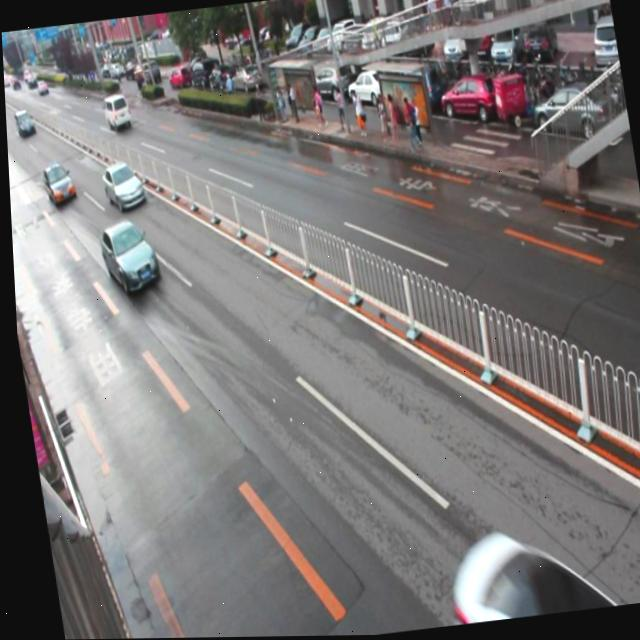car: (94, 216, 160, 297), (97, 157, 146, 213), (39, 160, 75, 209)
